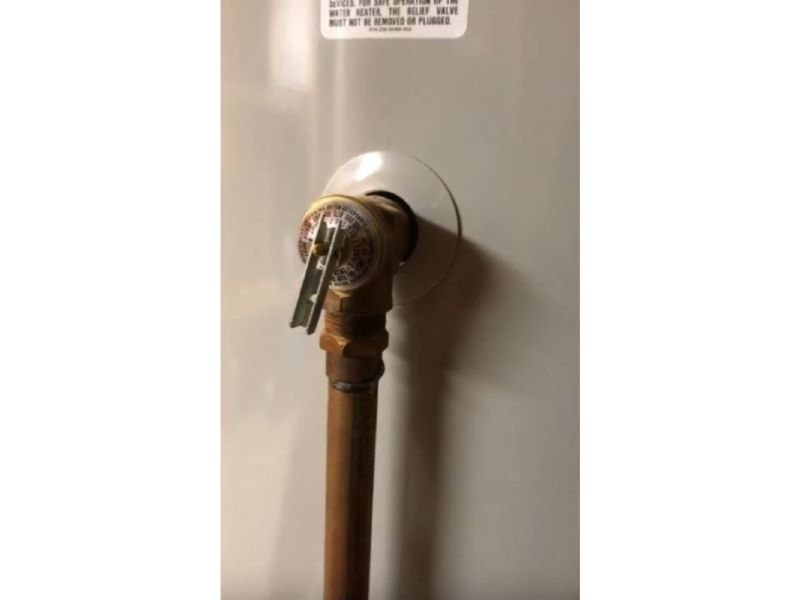Valve: (288, 193, 418, 394)
